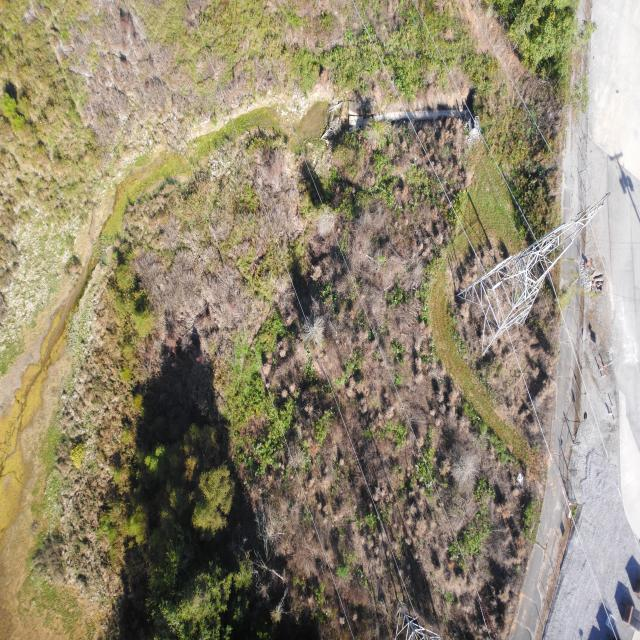Area of Interest: (157, 479, 270, 632)
